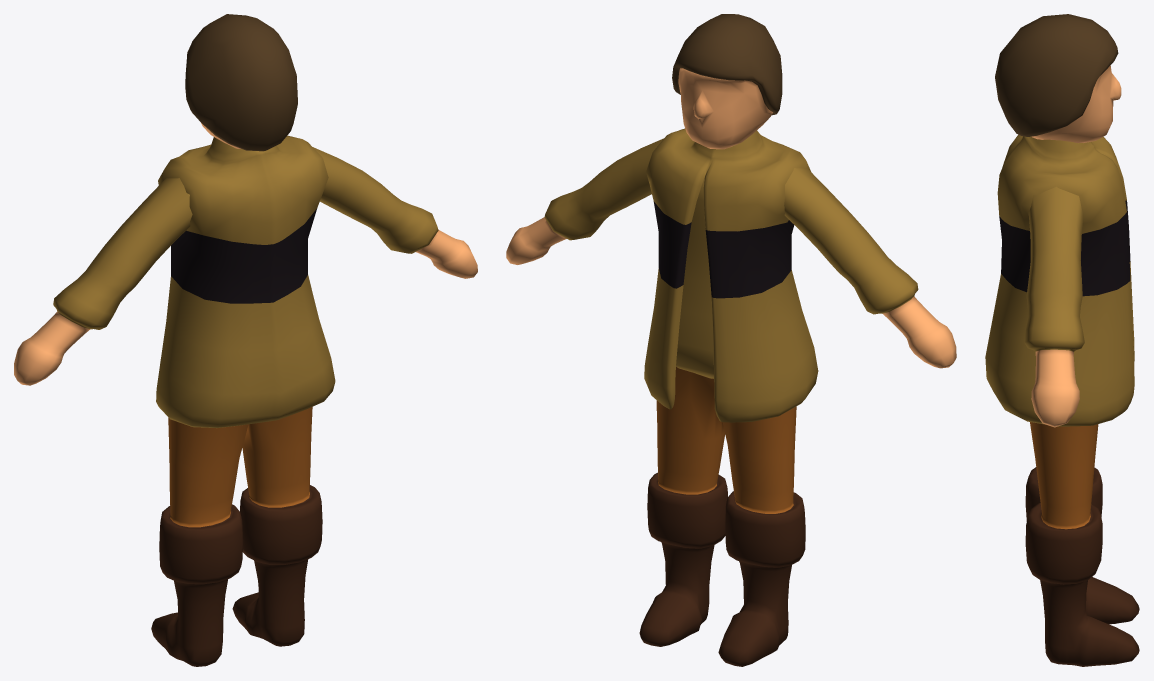
Rendered from Swordman.glb.
3 renders of one model, left to right at view 1: azimuth 30°, elevation 25°; view 2: azimuth 150°, elevation 25°; view 3: azimuth 270°, elevation 25°, orthographic. The views are drawn at different scales.
Parts seen in each view (by area): view 1: Bowman; view 2: Bowman; view 3: Bowman.
Part boxes in pixels (<box>): Bowman: <box>14,14,477,666</box>; Bowman: <box>506,14,956,666</box>; Bowman: <box>985,14,1139,666</box>.
Bounding box in the file's own units: 5.53 × 7.33 × 1.64.
